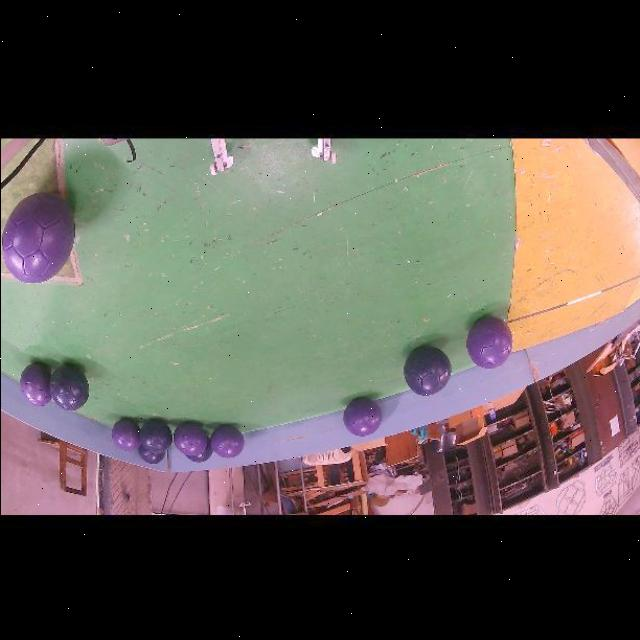B: (403, 346, 450, 396), (49, 363, 88, 410), (139, 420, 172, 454), (186, 437, 212, 463), (138, 444, 164, 464)
P: (2, 192, 73, 284), (466, 316, 511, 369), (343, 397, 381, 437), (19, 363, 51, 406), (173, 422, 207, 456), (209, 425, 243, 457), (110, 418, 140, 451)
